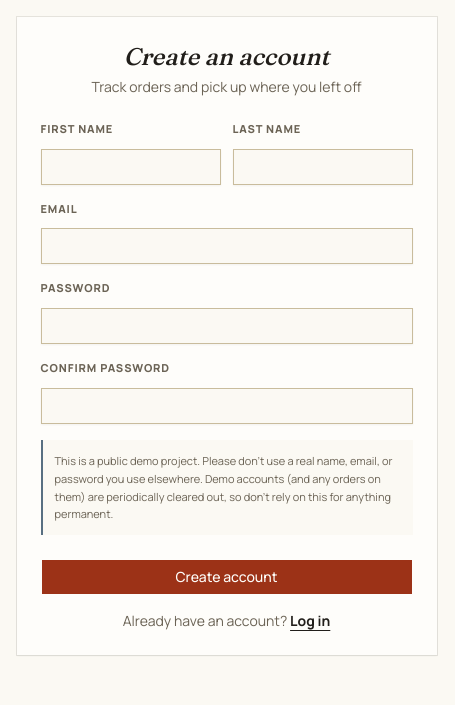
Scenario: RegisterForm › shows a mismatch error when the passwords don't match
The image size is (455, 705).
In the field labelled "First name": (130, 167) [40, 149, 220, 185], type "Given Name Field"
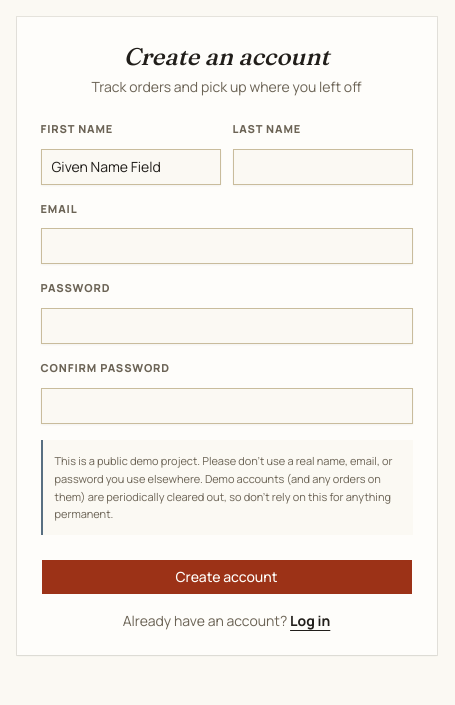
In the field labelled "Last name": (322, 167) [232, 149, 412, 185], type "Family Name Field"
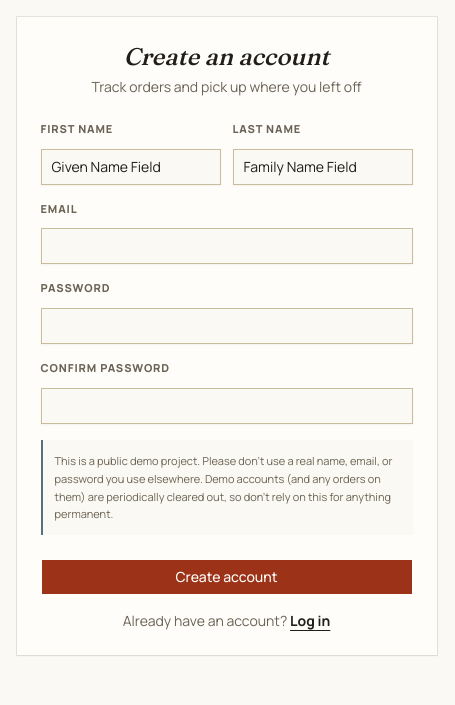
In the field labelled "Email": (226, 246) [40, 228, 412, 264], type "user@example.com"
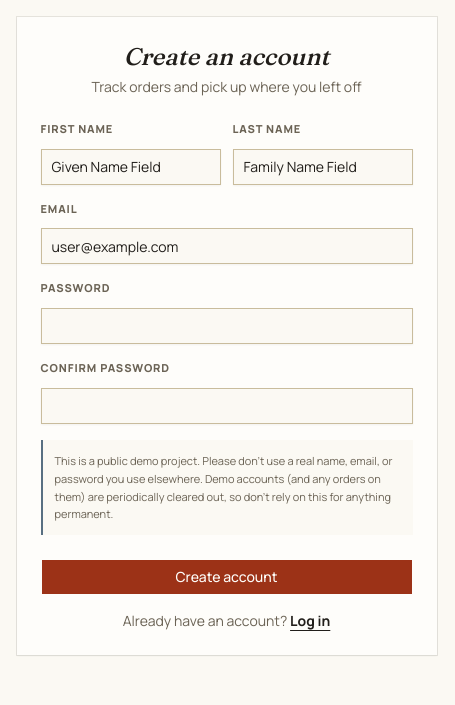
In the password field labelled "Password": (226, 326) [40, 308, 412, 344], type "Str0ng!Pass"
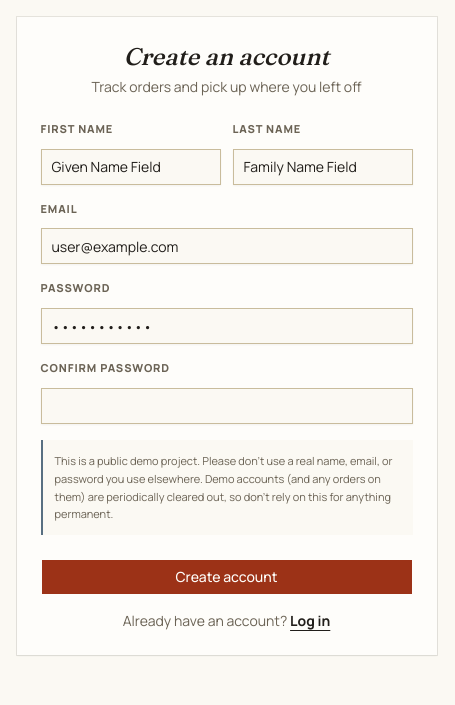
In the password field labelled "Confirm password": (226, 406) [40, 388, 412, 424], type "Different!Pass1"
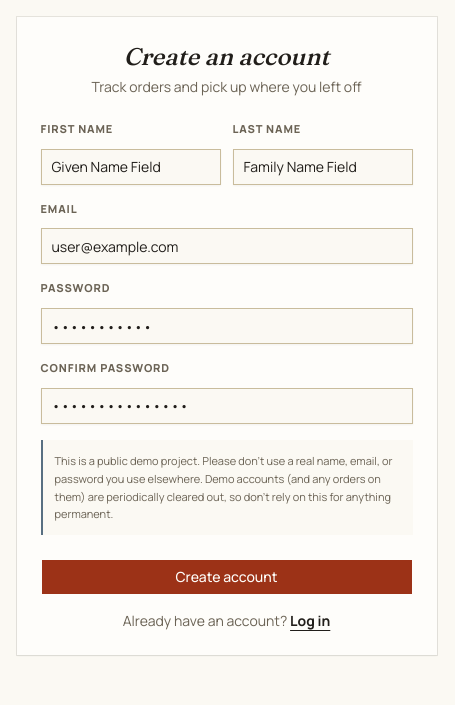
Click the button "Create account": (226, 577) [40, 559, 412, 595]
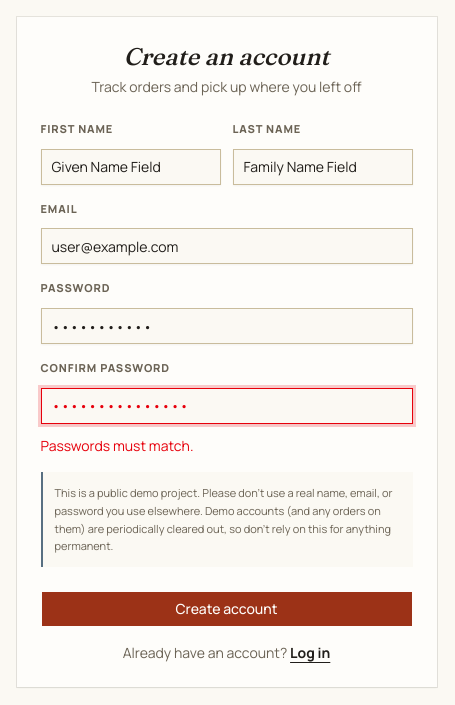
expect the text "Passwords must match." is shown: met, box [40, 436, 194, 455]
